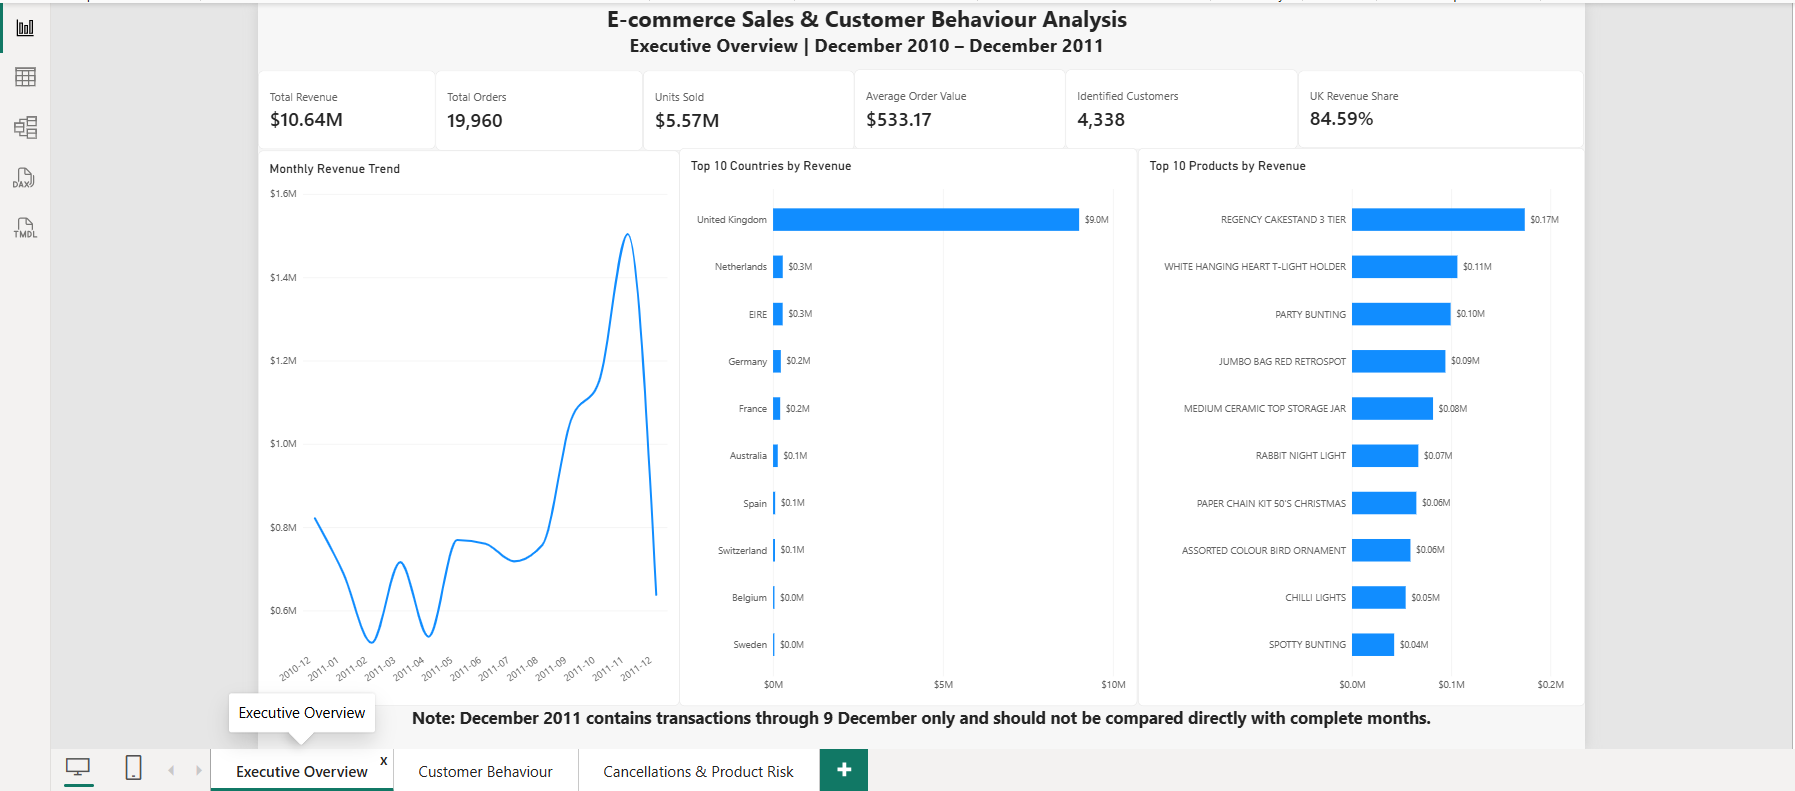

Layout of this report page (visuals, bound fields, positions):
{"tool":"powerbi","page":{"name":"Executive Overview","canvas":[1920,1080],"ordinal":0},"visuals":[{"type":"textbox","box":[0,0,1763.5,96.2],"z":0},{"type":"cardVisual","fields":{"Data":["Sales.Total Revenue"]},"box":[0,98,257.1,114.3],"z":1000},{"type":"cardVisual","fields":{"Data":["Sales.Total Orders"]},"box":[257.1,98,300,116.3],"z":2000},{"type":"cardVisual","fields":{"Data":["Sales.Units Sold"]},"box":[557.1,98,306.1,116.3],"z":3000},{"type":"cardVisual","fields":{"Data":["Sales.Average Order Value"]},"box":[863.3,95.9,306.1,116.3],"z":4000},{"type":"cardVisual","fields":{"Data":["Sales.Unique Customers"]},"box":[1169.4,95.9,336.7,116.3],"z":5000},{"type":"lineChart","title":"Monthly Revenue Trend","fields":{"Category":["Date.YearMonth"],"Y":["Sales.Total Revenue"]},"box":[0,214.3,610.2,804.1],"z":6000},{"type":"clusteredBarChart","title":"Top 10 Countries by Revenue","fields":{"Category":["Sales.Country"],"Y":["Sales.Total Revenue"]},"box":[610.2,210.2,663.3,808.2],"z":7000},{"type":"clusteredBarChart","title":"Top 10 Products by Revenue","fields":{"Category":["Sales.Description"],"Y":["Sales.Merchandise Revenue"]},"box":[1273.5,210.2,646.9,808.2],"z":8000},{"type":"cardVisual","fields":{"Data":["Sales.UK Revenue %"]},"box":[1506.1,98,414.3,112.2],"z":9000},{"type":"textbox","box":[0,1018.4,1920.4,61.2],"z":10000}]}

Visuals, with their boxes on the page's 1920x1080 design canvas (x1, y1, x2, y2). These are canvas units, not pixel positions in the 1795x791 screenshot, which may show the page scaled, cropped or inside an application window:
textbox: locate(0, 0, 1764, 96)
cardVisual - Sales.Total Revenue: locate(0, 98, 257, 212)
cardVisual - Sales.Total Orders: locate(257, 98, 557, 214)
cardVisual - Sales.Units Sold: locate(557, 98, 863, 214)
cardVisual - Sales.Average Order Value: locate(863, 96, 1169, 212)
cardVisual - Sales.Unique Customers: locate(1169, 96, 1506, 212)
"Monthly Revenue Trend" lineChart: locate(0, 214, 610, 1018)
"Top 10 Countries by Revenue" clusteredBarChart: locate(610, 210, 1274, 1018)
"Top 10 Products by Revenue" clusteredBarChart: locate(1274, 210, 1920, 1018)
cardVisual - Sales.UK Revenue %: locate(1506, 98, 1920, 210)
textbox: locate(0, 1018, 1920, 1080)
